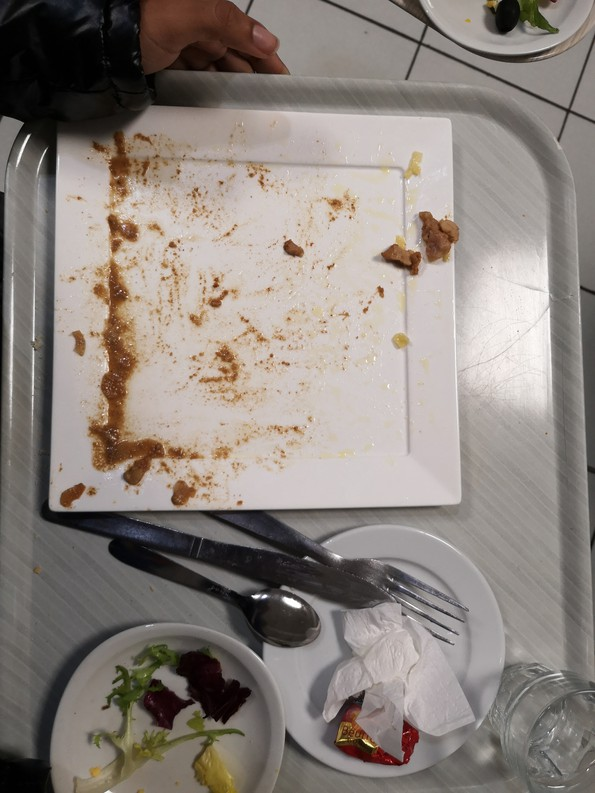cup: (497, 650, 592, 793)
cutlery: (61, 508, 457, 643)
orga: (104, 646, 266, 793), (386, 203, 465, 288)
trash: (337, 606, 479, 760)
